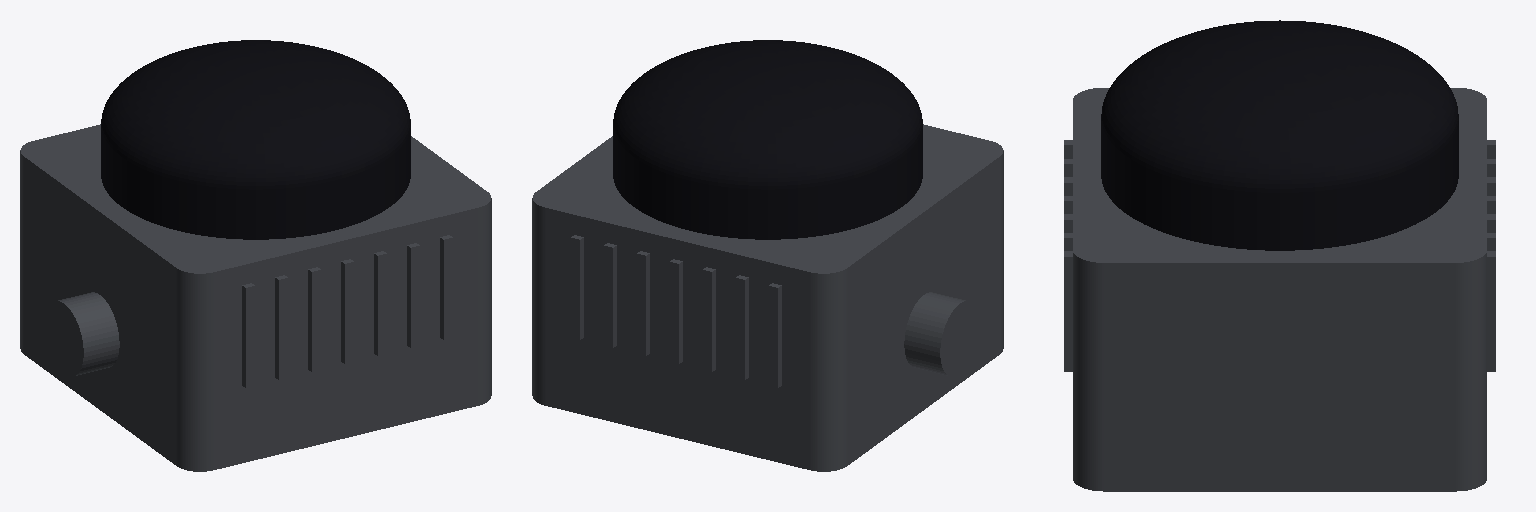
URDF robot description (mid_360):
<?xml version="1.0"?>
<!--
  mid-360: Livox Mid-360 (360°×59° 小型 3D LiDAR) の自作マッシングモデル (CC0-1.0)。

  ============================================================================
  **これは Livox の CAD ではない。** 公式 STEP (mid-360-asm.stp) は公式サイトから
  ログイン無しで DL できるが利用条件の明記が無く再配布可否を判断できないため、
  公式ユーザーマニュアル (Appendix "Livox Mid-360 Dimensions") の公表値に合わせて
  botrail-assets が独自に著作した簡略形状である。実寸が要る用途には公式 STEP を使うこと。
  ============================================================================

  参照実機から採った値 (公表値):
    - 外形 65 x 65 x 60 mm (コネクタ突起込みの幅 73)、質量 265 g
    - 下部ブロック (放熱フィン付き) 高さ 39.5、その上に光学ドーム、全高 60
    - 点群座標の原点 O は底面から 47.0 mm (ドーム内)
    - 底面取付 4-M3 深さ 5 (48 x 36 mm ピッチ)、位置決め 2-φ3 深さ 1.8
    - M12 航空コネクタ (12 極、IP67) は側面、底面から 16 mm
  当方設計 (実機の写しではない): フィンの本数、ドームの輪郭、角丸、コネクタの向き (-X)。

  座標系 (botrail の lidar 規約 = ROS laser 規約):
    - mount = root = 底面中心 (実機は底面 4-M3 で取付。取付面に 10 mm 以上の
      隙間を取る指示あり)
    - livox_frame = 点群原点 O、底面の 47.0 mm 上。+X = 前方 (Livox 座標系の X)、
      +Z = 上。水平 360 度・垂直 -7〜+52 度の非反復走査。

  visual: tools/generate_meshes.py が生成する ../meshes/{base,dome}.stl
  collision: URDF プリミティブ (下部 65x65x39.5 の箱 + ドーム φ58 の円柱)
-->
<robot name="mid_360">

  <material name="mid360_grey">
    <color rgba="0.32 0.33 0.35 1"/>
  </material>
  <material name="mid360_dome">
    <color rgba="0.10 0.10 0.12 1"/>
  </material>

  <link name="mount"/>

  <joint name="mount_to_body" type="fixed">
    <parent link="mount"/>
    <child link="body"/>
    <origin xyz="0 0 0" rpy="0 0 0"/>
  </joint>

  <link name="body">
    <visual>
      <geometry>
        <mesh filename="../meshes/base.stl"/>
      </geometry>
      <material name="mid360_grey"/>
    </visual>
    <visual>
      <geometry>
        <mesh filename="../meshes/dome.stl"/>
      </geometry>
      <material name="mid360_dome"/>
    </visual>
    <collision><!-- 下部ブロック 65 x 65 x 39.5 -->
      <origin xyz="0 0 0.01975"/>
      <geometry><box size="0.065 0.065 0.0395"/></geometry>
    </collision>
    <collision><!-- ドーム φ58 x 20.5 (z 39.5..60) -->
      <origin xyz="0 0 0.04975"/>
      <geometry><cylinder radius="0.029" length="0.0205"/></geometry>
    </collision>
    <collision><!-- M12 コネクタ φ14 x 8 (背面) -->
      <origin xyz="-0.0365 0 0.016" rpy="0 1.5707963267948966 0"/>
      <geometry><cylinder radius="0.007" length="0.008"/></geometry>
    </collision>
    <inertial>
      <!-- 265 g (公表値)。慣性は 65 x 65 x 60 の中実直方体近似、重心は幾何中心 -->
      <mass value="0.265"/>
      <origin xyz="0 0 0.030"/>
      <inertia ixx="1.73e-4" ixy="0" ixz="0" iyy="1.73e-4" iyz="0" izz="1.87e-4"/>
    </inertial>
  </link>

  <joint name="body_to_livox_frame" type="fixed">
    <parent link="body"/>
    <child link="livox_frame"/>
    <origin xyz="0 0 0.047" rpy="0 0 0"/>
  </joint>

  <link name="livox_frame"/>

</robot>

--- Render facts (derived) ---
Views: 3 orthographic renders of the robot side by side, from view 1: azimuth 30°, elevation 25°; view 2: azimuth 150°, elevation 25°; view 3: azimuth 270°, elevation 25°.
Robot: mid_360 — 3 links, 2 joints (2 fixed); root link mount; default pose: all joints at 0.
Links seen in each view (by area): view 1: body; view 2: body; view 3: body.
Boxes of the visible links, <box> form: body: <box>20,40,491,471</box>; body: <box>532,40,1003,471</box>; body: <box>1064,20,1495,491</box>.
Size in the robot's own frame: 0.0725 by 0.0676 by 0.06 metres.
Meshes: 2 distinct files referenced, 2 mesh visuals loaded (2 binary STL).
